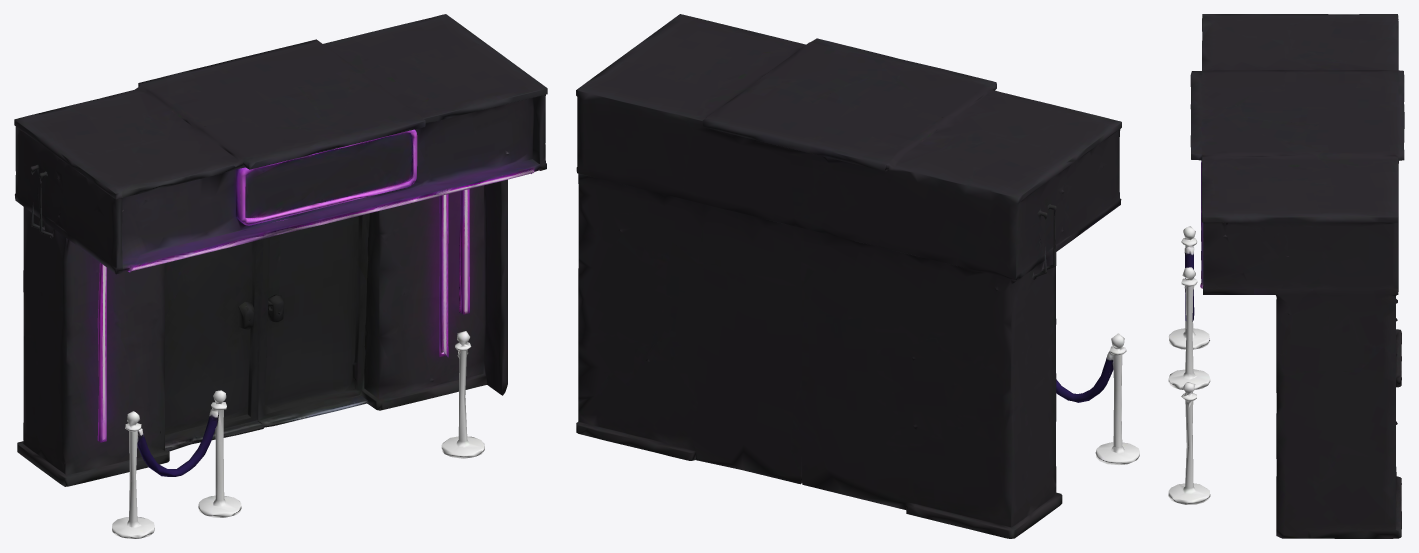
The model's file is club_millennium.glb.
The picture shows the model from 3 angles, left to right: view 1: azimuth 30°, elevation 25°; view 2: azimuth 150°, elevation 25°; view 3: azimuth 270°, elevation 25°; orthographic projection. The views are drawn at different scales.
Visible parts, largest first — view 1: tripo_node_a7220a2e-21b9-4ba5-a624-c5d80f9d3ed3; view 2: tripo_node_a7220a2e-21b9-4ba5-a624-c5d80f9d3ed3; view 3: tripo_node_a7220a2e-21b9-4ba5-a624-c5d80f9d3ed3.
Boxes of the visible parts, x1,y1,x2,y2 form: tripo_node_a7220a2e-21b9-4ba5-a624-c5d80f9d3ed3: [14, 14, 547, 538]; tripo_node_a7220a2e-21b9-4ba5-a624-c5d80f9d3ed3: [576, 14, 1139, 538]; tripo_node_a7220a2e-21b9-4ba5-a624-c5d80f9d3ed3: [1168, 14, 1404, 538].
Size of the model in its own units: 8 by 5.87 by 3.85.
Materials: 1 (1 with a texture image).
